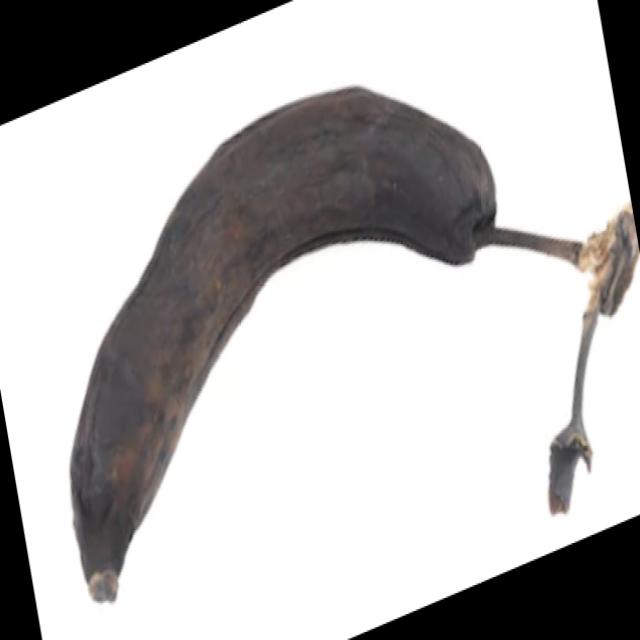Rotten: (25, 39, 640, 640)
